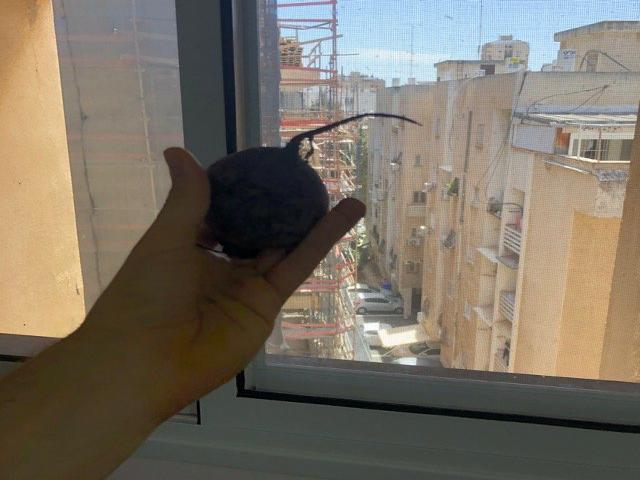beet: (207, 111, 423, 258)
